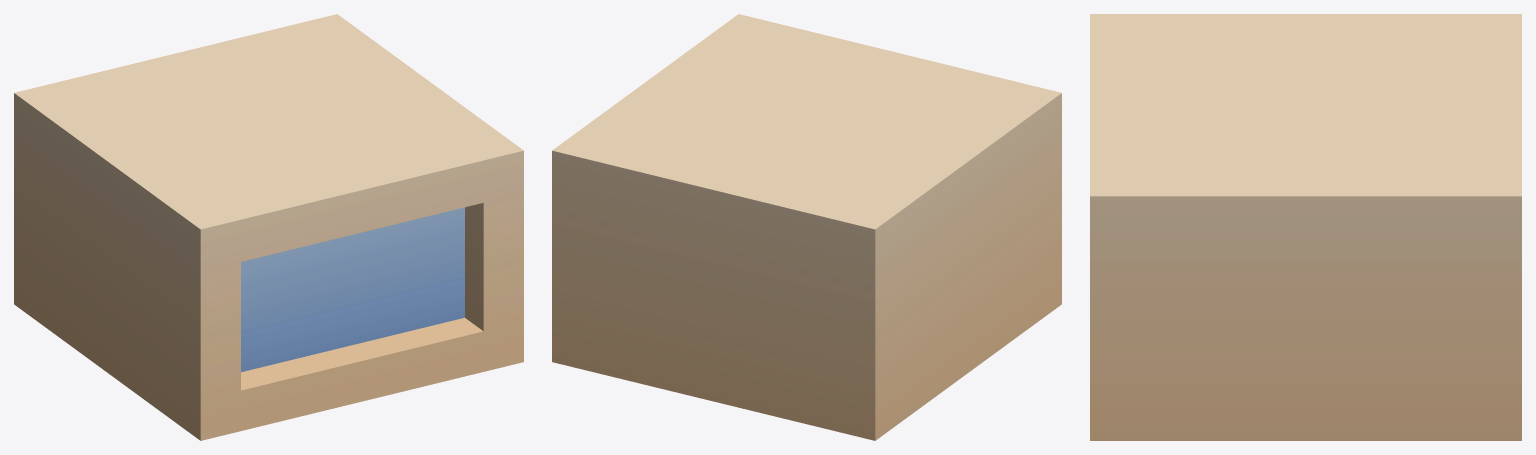
Rendered from kenney-modular-buildings-building-window-wide.glb.
The picture shows the model from 3 angles, left to right: view 1: azimuth 30°, elevation 25°; view 2: azimuth 150°, elevation 25°; view 3: azimuth 270°, elevation 25°; orthographic projection. The views are drawn at different scales.
Parts seen in each view (by area): view 1: building-window-wide; view 2: building-window-wide; view 3: building-window-wide.
Part boxes in pixels (<box>): building-window-wide: <box>14,14,523,440</box>; building-window-wide: <box>552,14,1061,440</box>; building-window-wide: <box>1090,14,1521,440</box>.
Size of the model in its own units: 1 by 0.625 by 1.
1 material, 1 textured.
